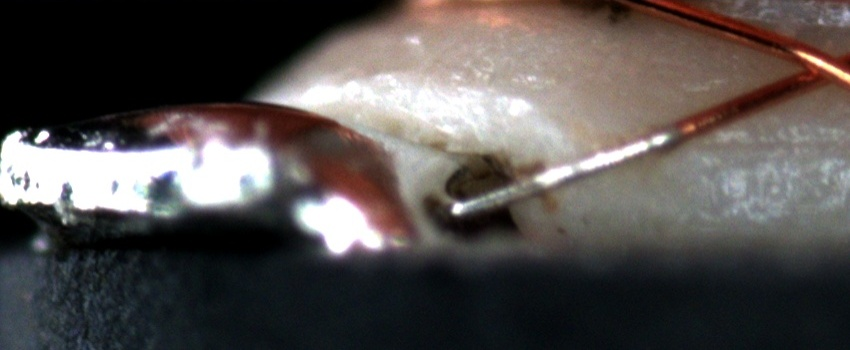CL: (776, 42, 846, 96)
DL: (680, 116, 850, 180)
TS: (455, 123, 678, 221)
